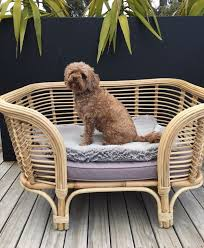dog_sitting: (63, 61, 161, 148)
